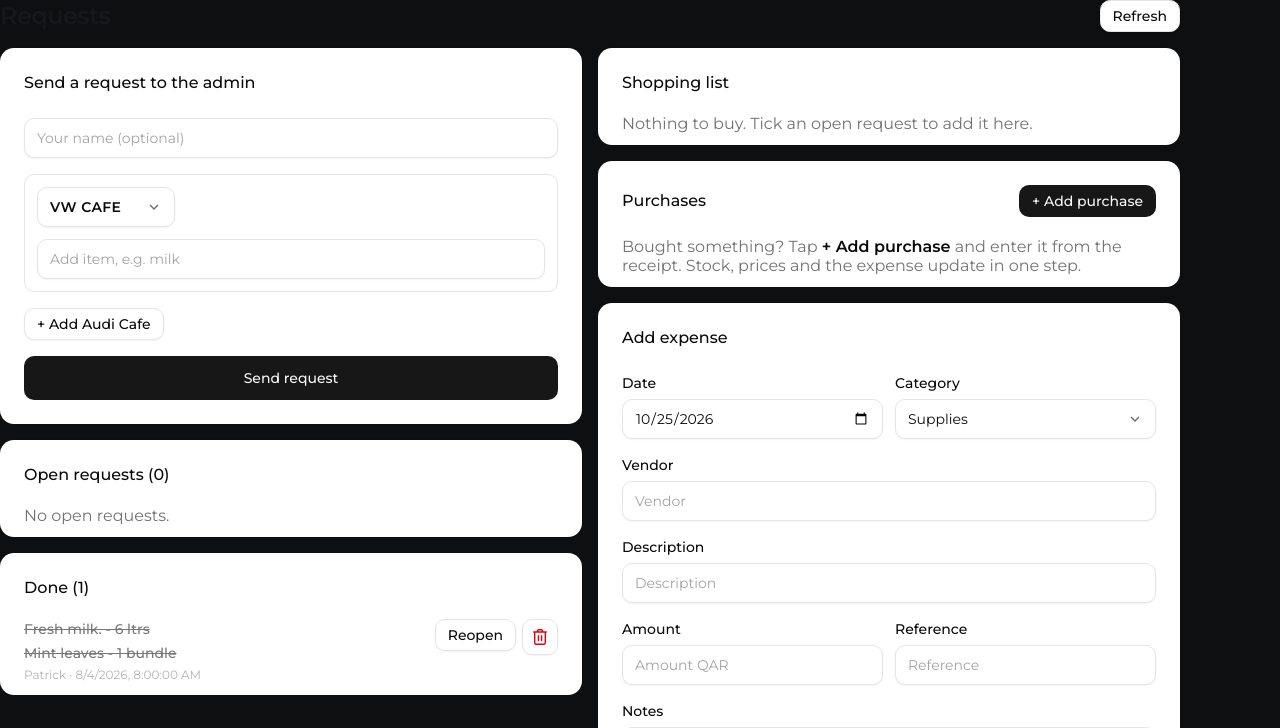
it: opening a request › opens for a request that is already done, and offers to reopen it
The image size is (1280, 728).
Click the button titled "Open this request": {"x": 87, "y": 629} [24,619,423,683]
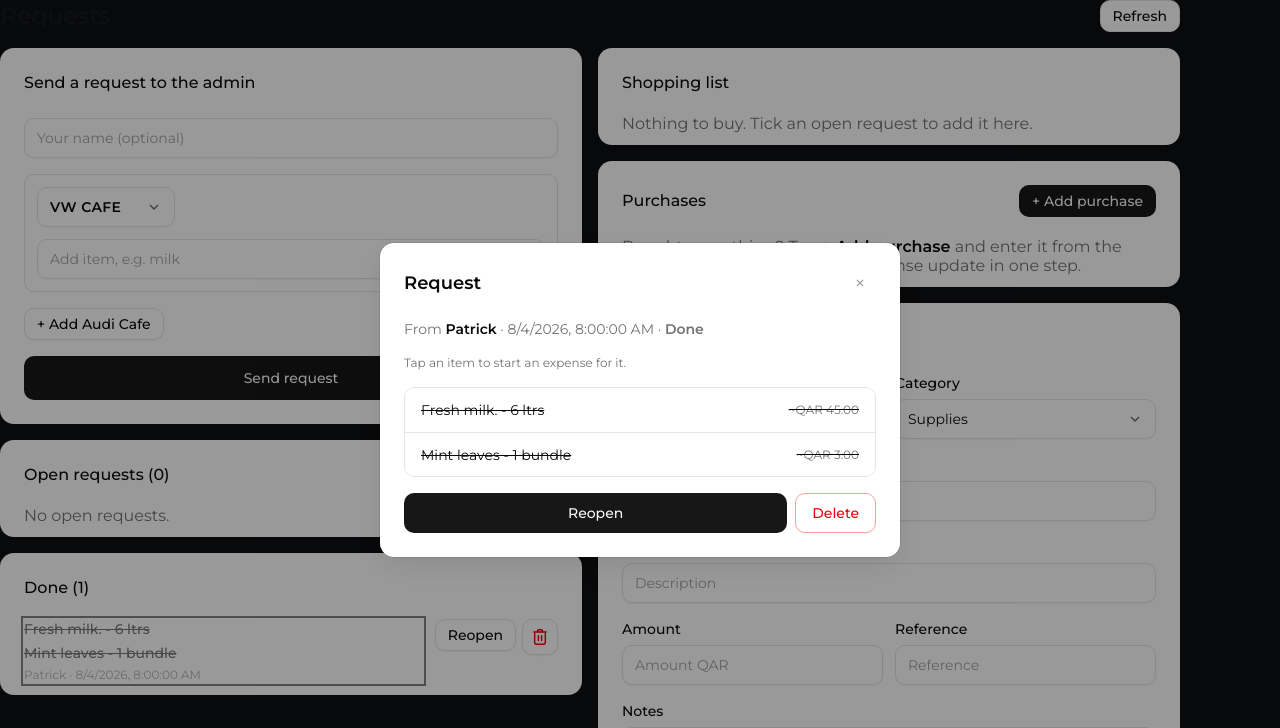
Expected: the text "Done" is shown, [665,320,704,338]
Expected: the button "Reopen" is shown, [404,493,787,533]
